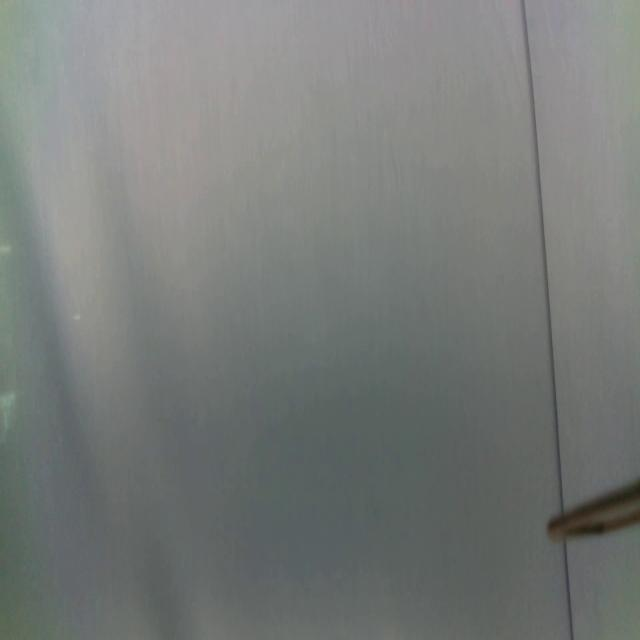crease: (520, 1, 564, 519), (562, 542, 576, 640)
